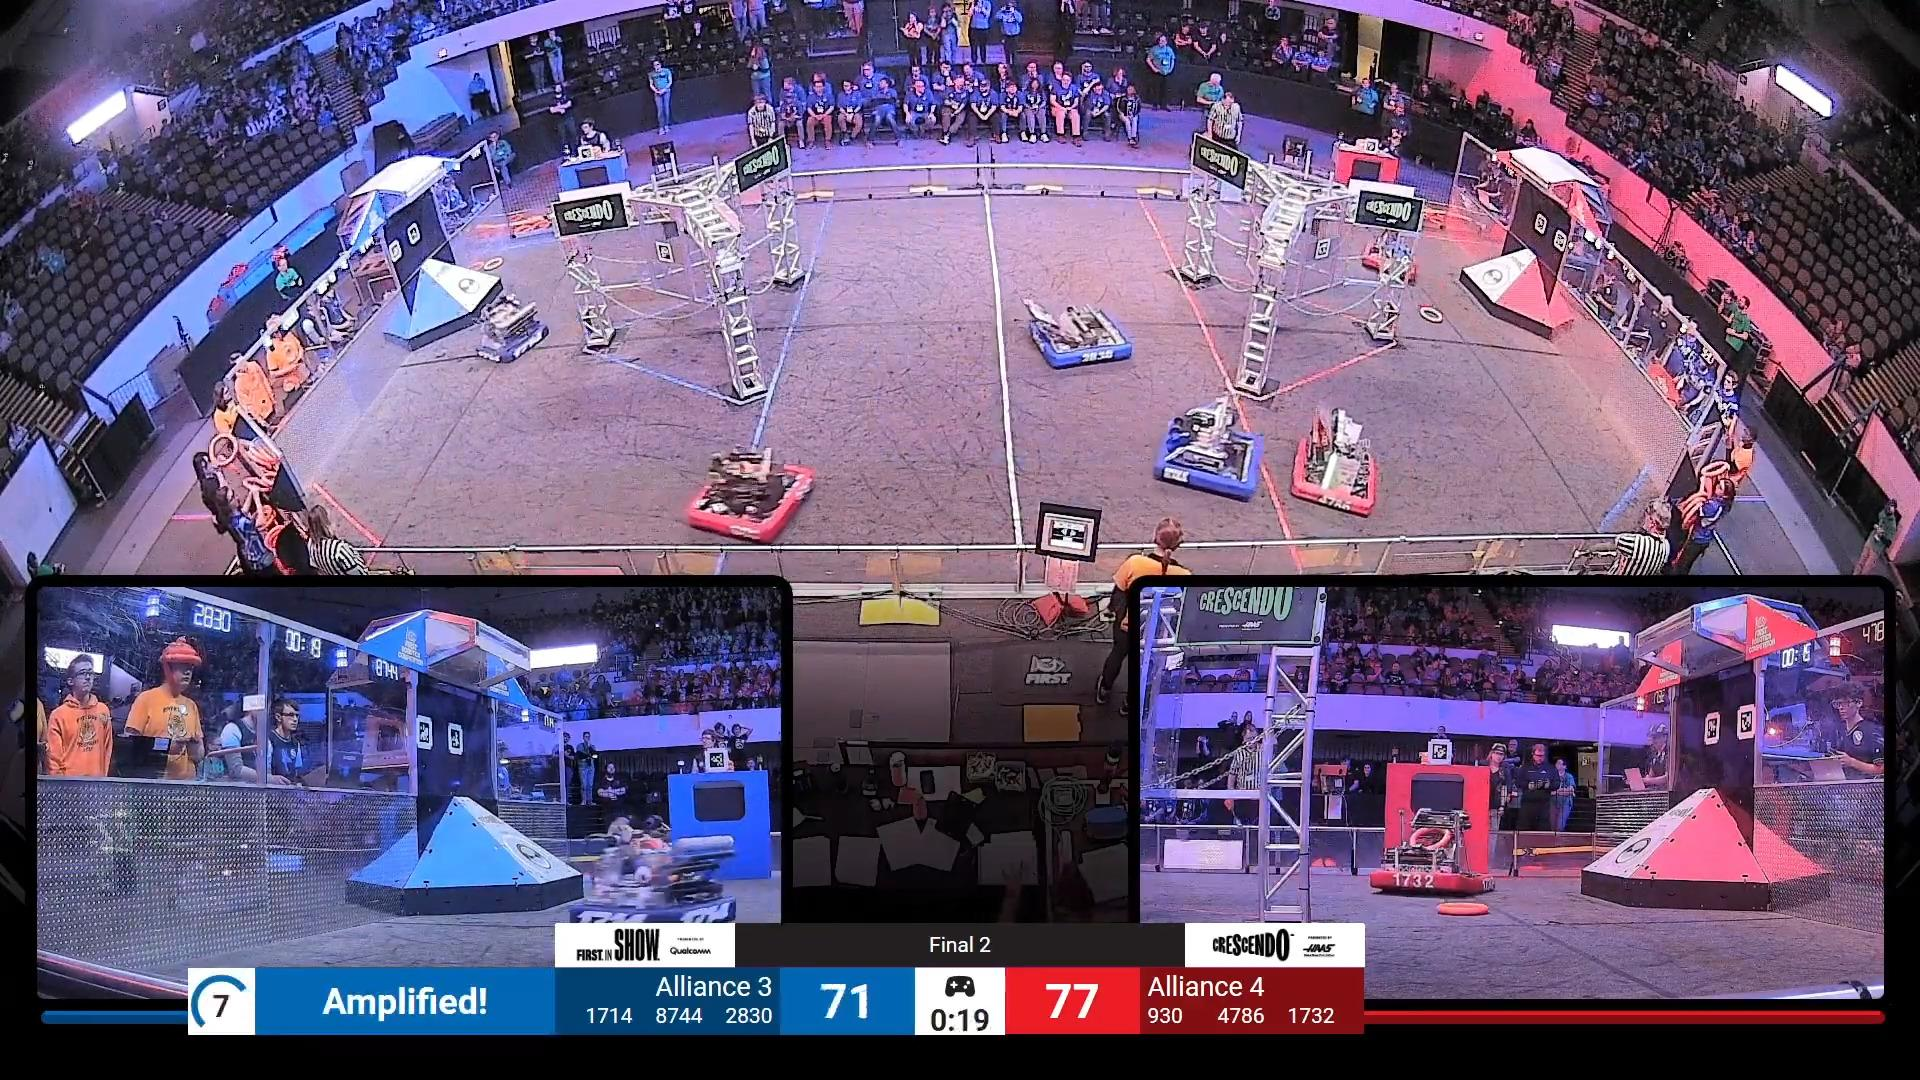robot: (555, 820, 745, 920), (683, 447, 816, 542), (1158, 396, 1262, 500), (1367, 804, 1485, 893), (1292, 404, 1381, 516), (1022, 297, 1133, 372), (477, 295, 547, 360), (1361, 227, 1418, 281)
